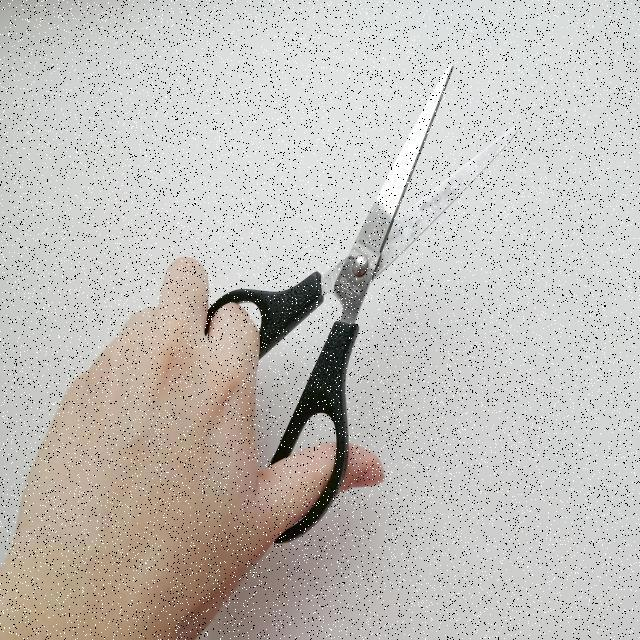scissors: (200, 59, 524, 550)
